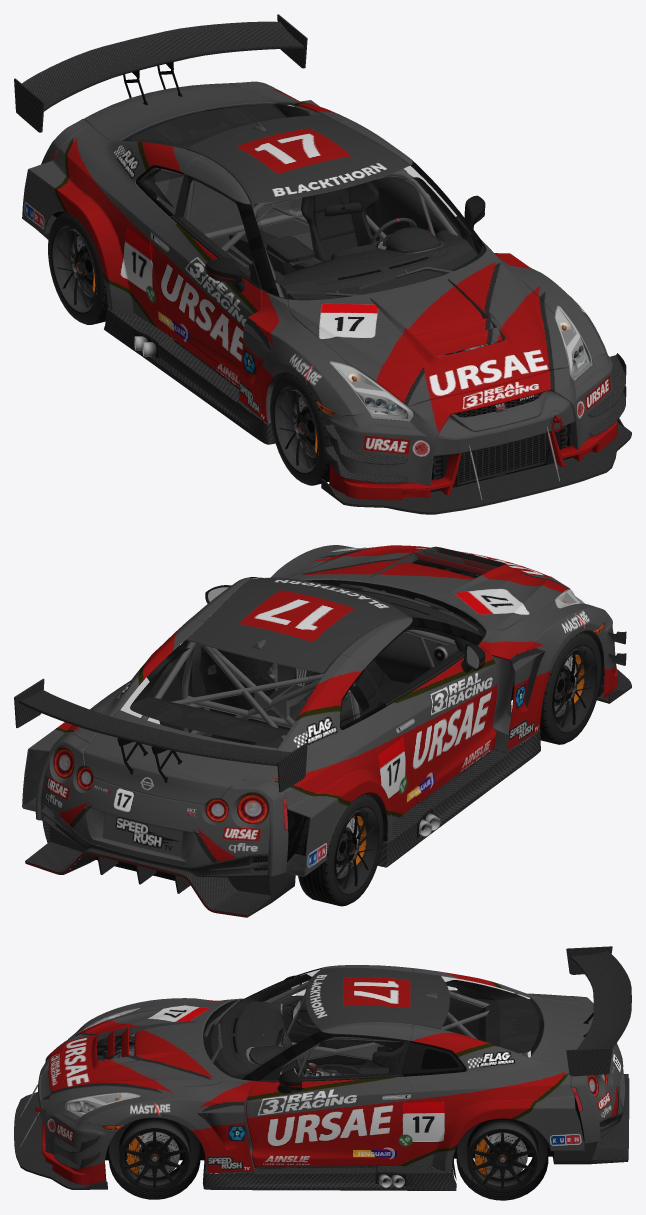
Rendered from nissan-gtr_r35_nismo_r3-2018-600hp-2.7s-2-V6_Twin_Turbo-Coupe_Race-652Nm-315kmh.glb.
3 renders of one model, top to bottom at view 1: azimuth 30°, elevation 25°; view 2: azimuth 150°, elevation 25°; view 3: azimuth 270°, elevation 25°, orthographic. The views are drawn at different scales.
Parts seen in each view (by area): view 1: Object_26, Object_4, Object_24, Object_30, Object_5, Object_6, Object_22, Object_8; view 2: Object_26, Object_4, Object_24, Object_6, Object_5, Object_30, Object_46, Object_22, Object_8; view 3: Object_26, Object_4, Object_24, Object_5, Object_6, Object_30, Object_8, Object_22, Object_48, Object_46.
Boxes of the visible parts, left/top/right/bottom form: Object_26: left=22, top=62, right=617, bottom=500; Object_4: left=14, top=14, right=631, bottom=514; Object_24: left=130, top=104, right=477, bottom=299; Object_30: left=124, top=105, right=481, bottom=298; Object_5: left=52, top=226, right=318, bottom=473; Object_6: left=48, top=212, right=330, bottom=485; Object_22: left=50, top=150, right=592, bottom=420; Object_8: left=71, top=235, right=315, bottom=457; Object_26: left=22, top=545, right=617, bottom=876; Object_4: left=14, top=559, right=631, bottom=917; Object_24: left=130, top=577, right=477, bottom=748; Object_6: left=297, top=631, right=601, bottom=906; Object_5: left=334, top=645, right=596, bottom=893; Object_30: left=121, top=577, right=480, bottom=747; Object_46: left=23, top=630, right=604, bottom=880; Object_22: left=53, top=547, right=604, bottom=829; Object_8: left=336, top=655, right=578, bottom=878; Object_26: left=20, top=965, right=625, bottom=1187; Object_4: left=14, top=946, right=631, bottom=1190; Object_24: left=211, top=974, right=539, bottom=1078; Object_5: left=119, top=1050, right=537, bottom=1192; Object_6: left=108, top=1120, right=548, bottom=1200; Object_30: left=211, top=970, right=543, bottom=1078; Object_8: left=138, top=1052, right=527, bottom=1178; Object_22: left=65, top=1008, right=607, bottom=1129; Object_48: left=401, top=1042, right=464, bottom=1073; Object_46: left=67, top=1096, right=584, bottom=1181.
Bounding box in the file's own units: 2.16 × 1.38 × 4.93.
Materials: 12 (12 with a texture image).
